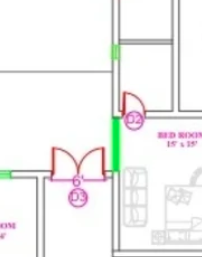door: (119, 85, 157, 136)
double door: (47, 140, 110, 193)
window: (108, 41, 129, 64)
